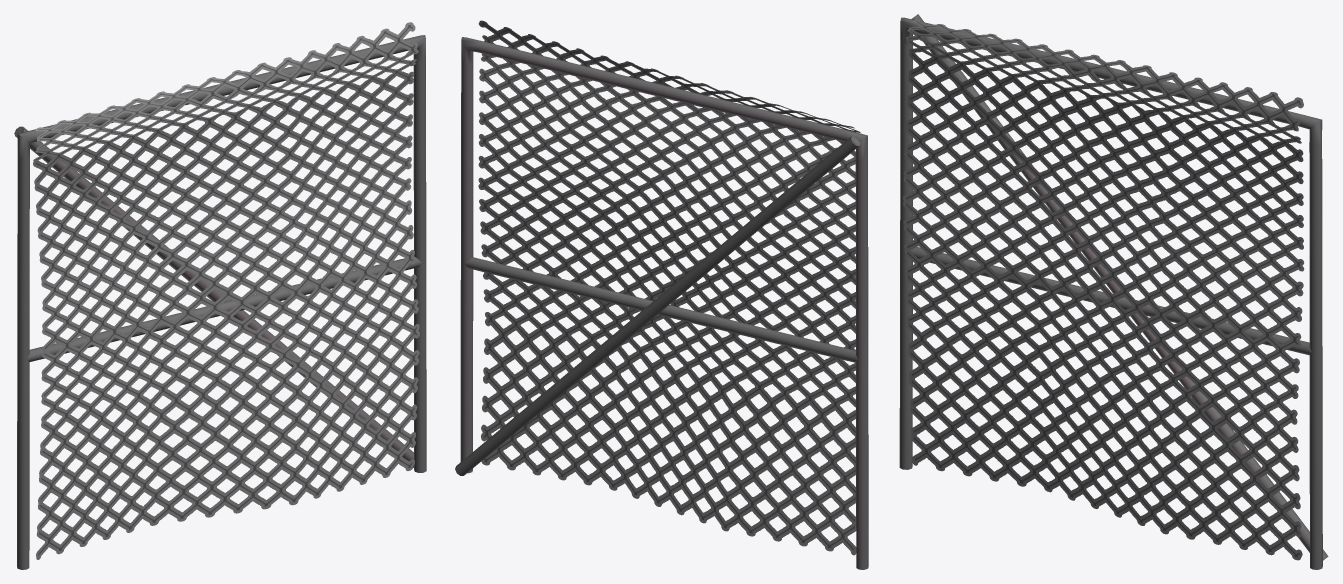
File: chain_fence.fbx
3 views of the same model, side by side, from view 1: azimuth 30°, elevation 25°; view 2: azimuth 150°, elevation 25°; view 3: azimuth 330°, elevation 25° (orthographic). The views are drawn at different scales.
Visible parts, largest first — view 1: Cube.004; view 2: Cube.004; view 3: Cube.004.
Boxes of the visible parts, <box> form: Cube.004: <box>14,22,426,569</box>; Cube.004: <box>455,20,868,569</box>; Cube.004: <box>899,14,1328,569</box>.
Size of the model in its own units: 1100 by 1183 by 108.
